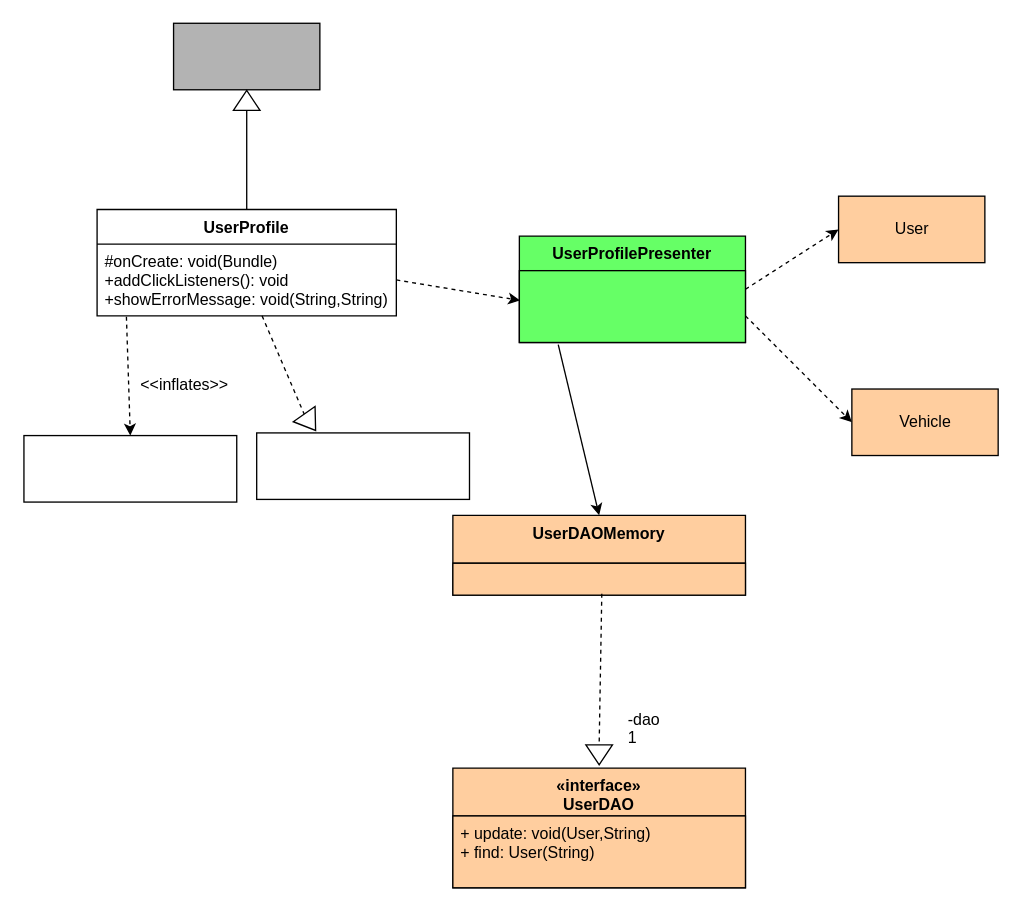
The diagram is 1021 pixels wide and 915 high, and some of its shapes have lost their labels. The centre of each missing label's shape, as x and y in pixels:
+setFields() : void +update(): void: the point at 631,305
AppCompatActivity: the point at 246,56
«interface» UserProfileView: the point at 362,465
«layout» activity_user_profile.xml: the point at 130,468
